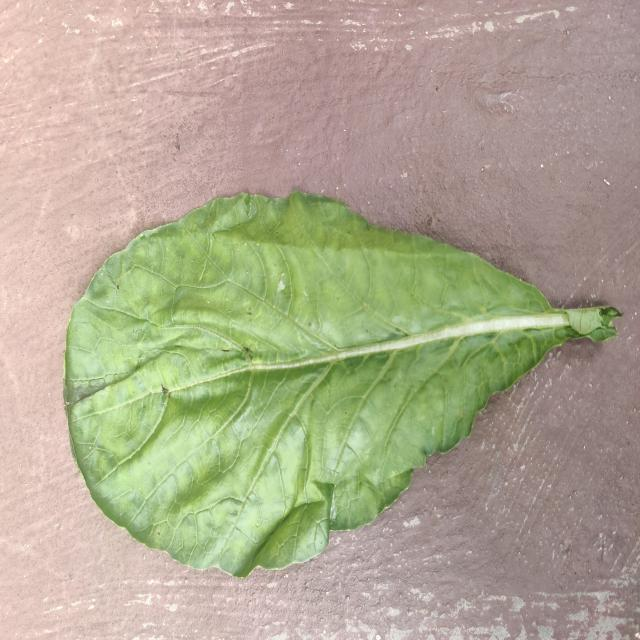leaf: (62, 187, 621, 578)
